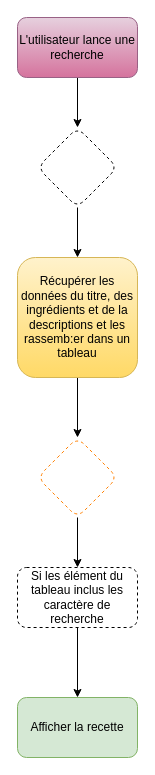
Some shapes in this 155 by 775 pixel diagram are drawn without their labels. The box of each missing label's shape, as (x1, y1, x2, y2) in pixels:
Caractère > 3: (36, 126, 118, 208)
Utiliser include: (36, 436, 118, 518)
